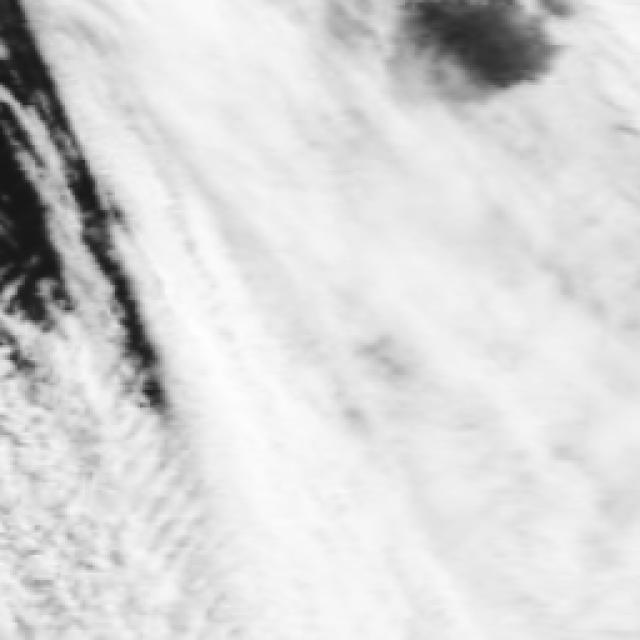CB: (451, 394, 639, 640), (298, 139, 464, 392), (135, 409, 314, 640), (464, 159, 640, 387), (296, 408, 466, 640), (164, 196, 326, 402), (162, 0, 315, 182)
